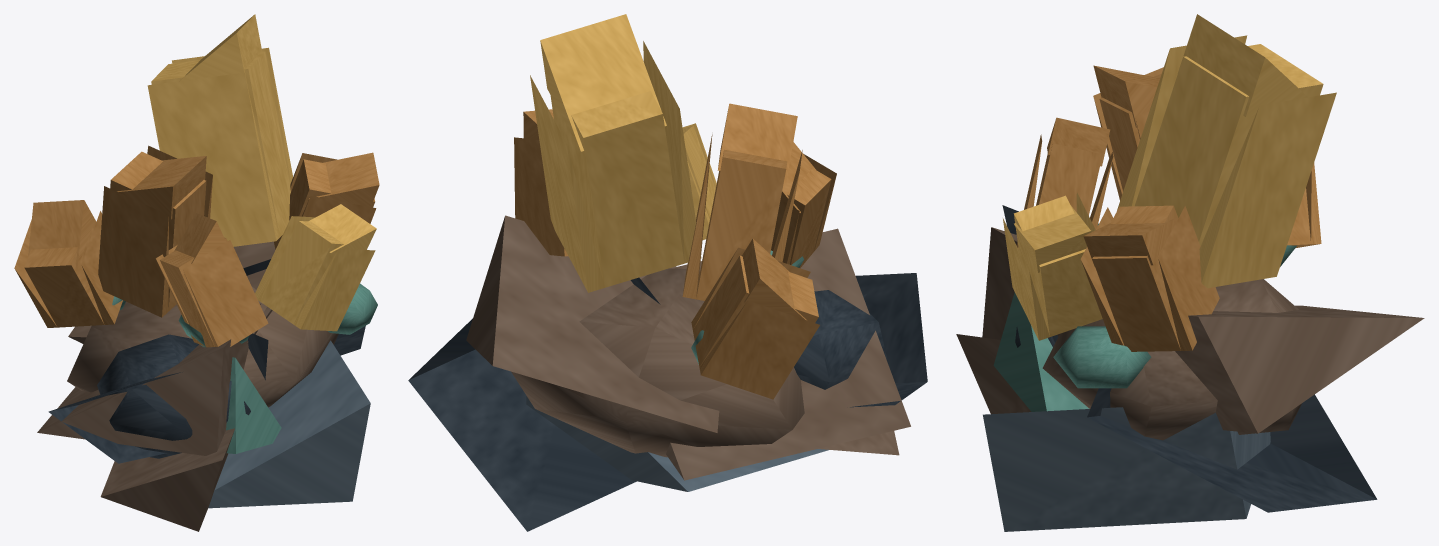
File: Sulfuros_Polimetalicos.fbx
The picture shows the model from 3 angles, left to right: view 1: azimuth 30°, elevation 25°; view 2: azimuth 150°, elevation 25°; view 3: azimuth 270°, elevation 25°; orthographic projection. The views are drawn at different scales.
Parts seen in each view (by area): view 1: Sulfuros_Polimetalicos; view 2: Sulfuros_Polimetalicos; view 3: Sulfuros_Polimetalicos.
Boxes of the visible parts, x1,y1,x2,y2 form: Sulfuros_Polimetalicos: (14, 14, 379, 531); Sulfuros_Polimetalicos: (408, 14, 927, 531); Sulfuros_Polimetalicos: (956, 14, 1424, 531).
Bounding box in the file's own units: 1.67 × 1.47 × 1.72.
Materials: 1 (1 with a texture image).
